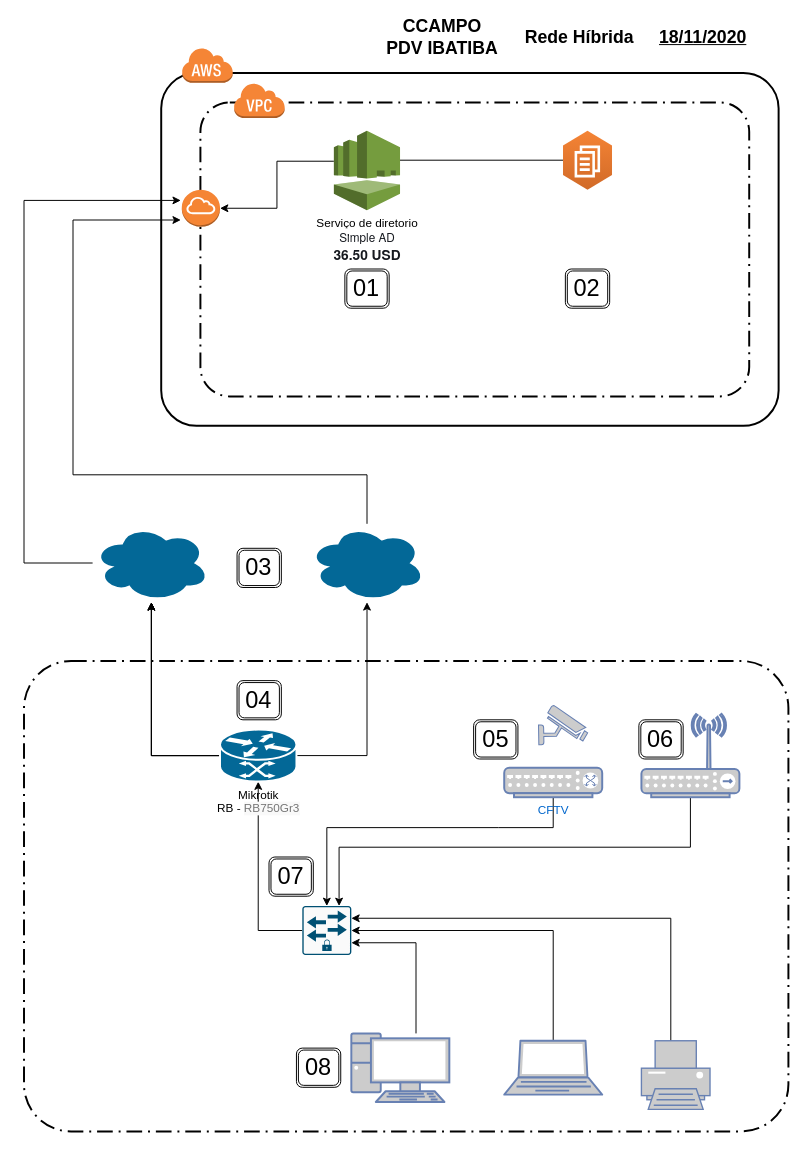
This 807x1150 diagram has some shape labels left out. Each missing label, with the box of its shape:
MegaNet 100 MB + IP: (307, 522, 426, 603)
Micron 100 MB + IP: (91, 522, 211, 603)
Serviço de compatilhamentos de aquivos WorkDocks 5.00 USD: (562, 130, 612, 190)
Switch 8 P Gigabit: (301, 905, 351, 955)
Unifi AP - PRO: (640, 712, 740, 798)
